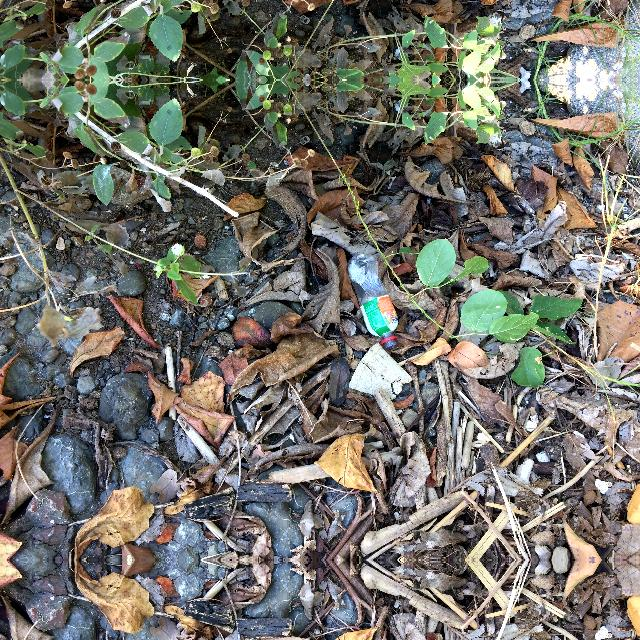Plastic: (344, 248, 406, 352), (342, 339, 424, 406)
